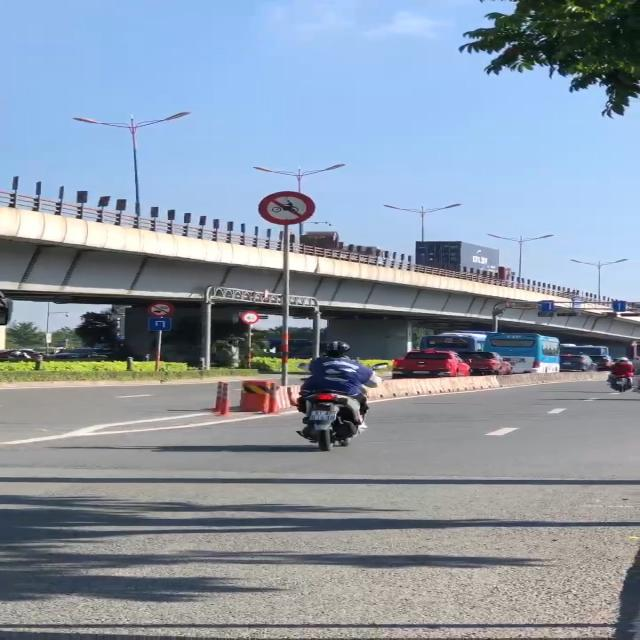Bien bao cam xe may: (253, 187, 322, 229)
